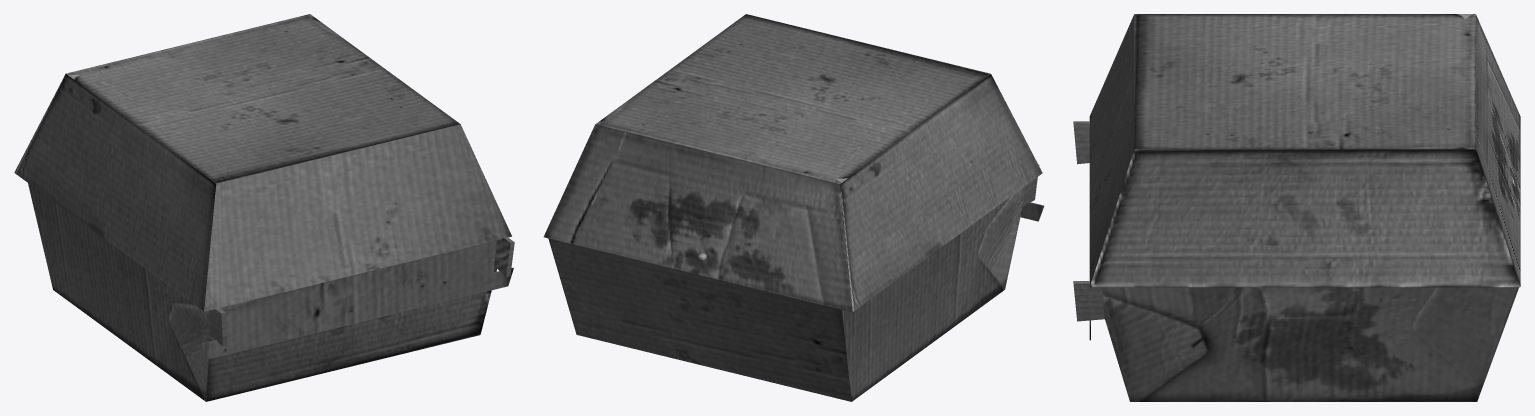
Rendered from burger_box.fbx.
The picture shows the model from 3 angles, left to right: view 1: azimuth 30°, elevation 25°; view 2: azimuth 150°, elevation 25°; view 3: azimuth 270°, elevation 25°; orthographic projection. The views are drawn at different scales.
Parts seen in each view (by area): view 1: burger_box_top, burger_box_bottom; view 2: burger_box_top, burger_box_bottom; view 3: burger_box_top, burger_box_bottom.
Boxes of the visible parts, x1=… form: burger_box_top: x1=14, y1=14, x2=513, y2=359; burger_box_bottom: x1=28, y1=183, x2=514, y2=401; burger_box_top: x1=543, y1=14, x2=1044, y2=312; burger_box_bottom: x1=548, y1=164, x2=1039, y2=401; burger_box_top: x1=1089, y1=14, x2=1520, y2=340; burger_box_bottom: x1=1073, y1=121, x2=1520, y2=401.
Bounding box in the file's own units: 23.55 × 15.44 × 25.78.
